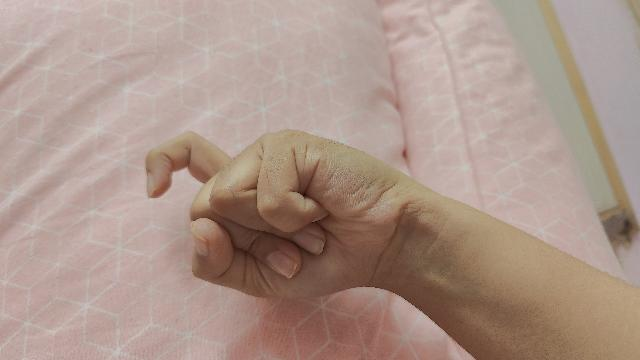tamrachud: (144, 130, 640, 360)
